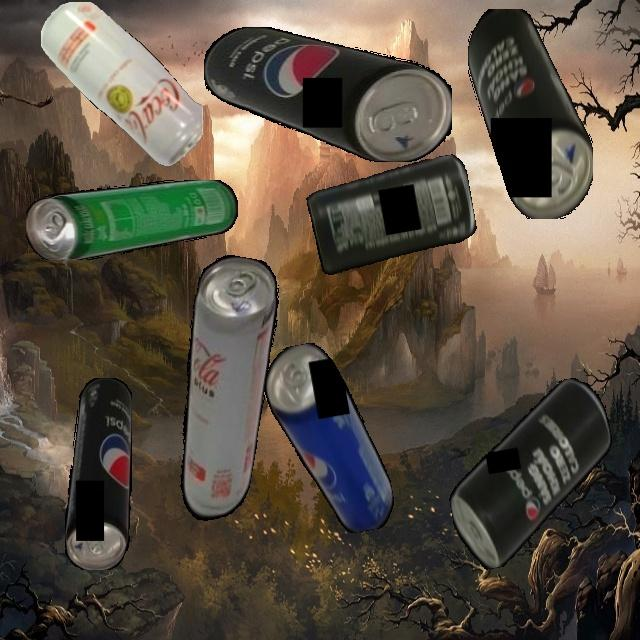debris: (433, 374, 630, 573), (157, 251, 288, 530), (203, 27, 452, 162), (259, 334, 398, 543), (41, 1, 203, 166), (467, 8, 593, 219), (304, 153, 480, 277), (26, 179, 238, 260), (64, 377, 132, 570)
